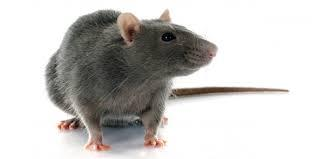rat: (42, 7, 288, 152)
